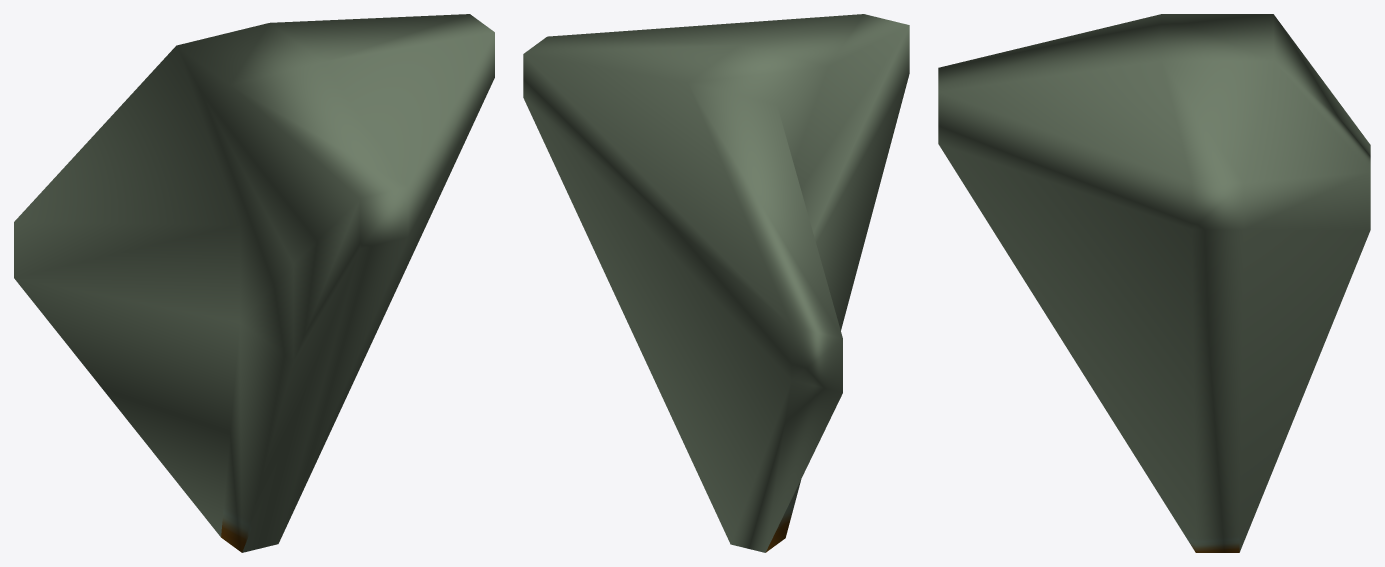
The model's file is glass_break_01.fbx.
The picture shows the model from 3 angles, left to right: view 1: azimuth 30°, elevation 25°; view 2: azimuth 150°, elevation 25°; view 3: azimuth 270°, elevation 25°; orthographic projection. The views are drawn at different scales.
Visible parts, largest first — view 1: pCube1; view 2: pCube1; view 3: pCube1.
Part boxes in pixels (box(x1,y1,x2,y2)): pCube1: box(14, 14, 494, 552); pCube1: box(523, 14, 909, 552); pCube1: box(938, 14, 1370, 552).
Size of the model in its own units: 0.0645 by 0.076 by 0.0588.
